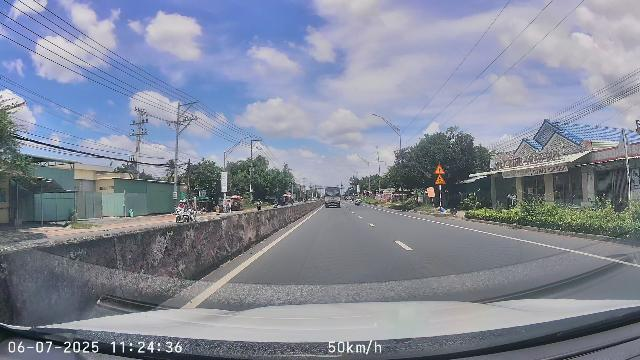207-giao-nhau-voi-duong-khong-uu-tien: (435, 164, 445, 174)
224-duong-nguoi-di-bo-cat-ngang: (435, 174, 446, 184)
